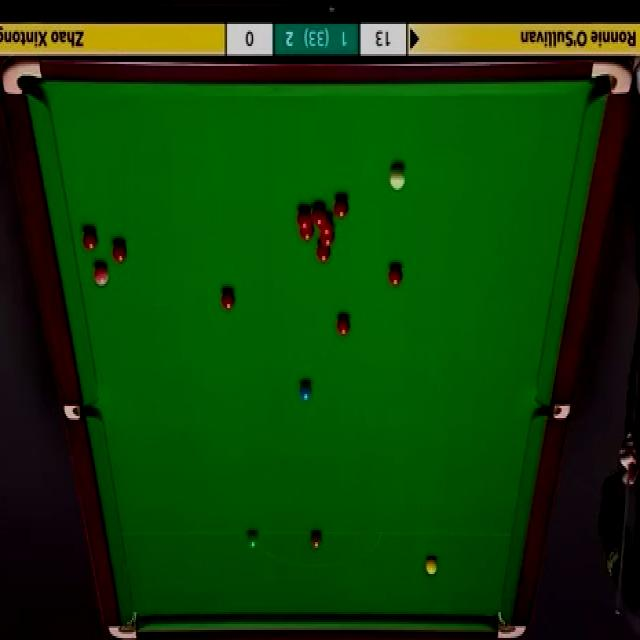pocket: (590, 58, 632, 98), (3, 62, 43, 98), (496, 612, 528, 640), (108, 612, 140, 640), (64, 404, 100, 422), (531, 405, 572, 420)
